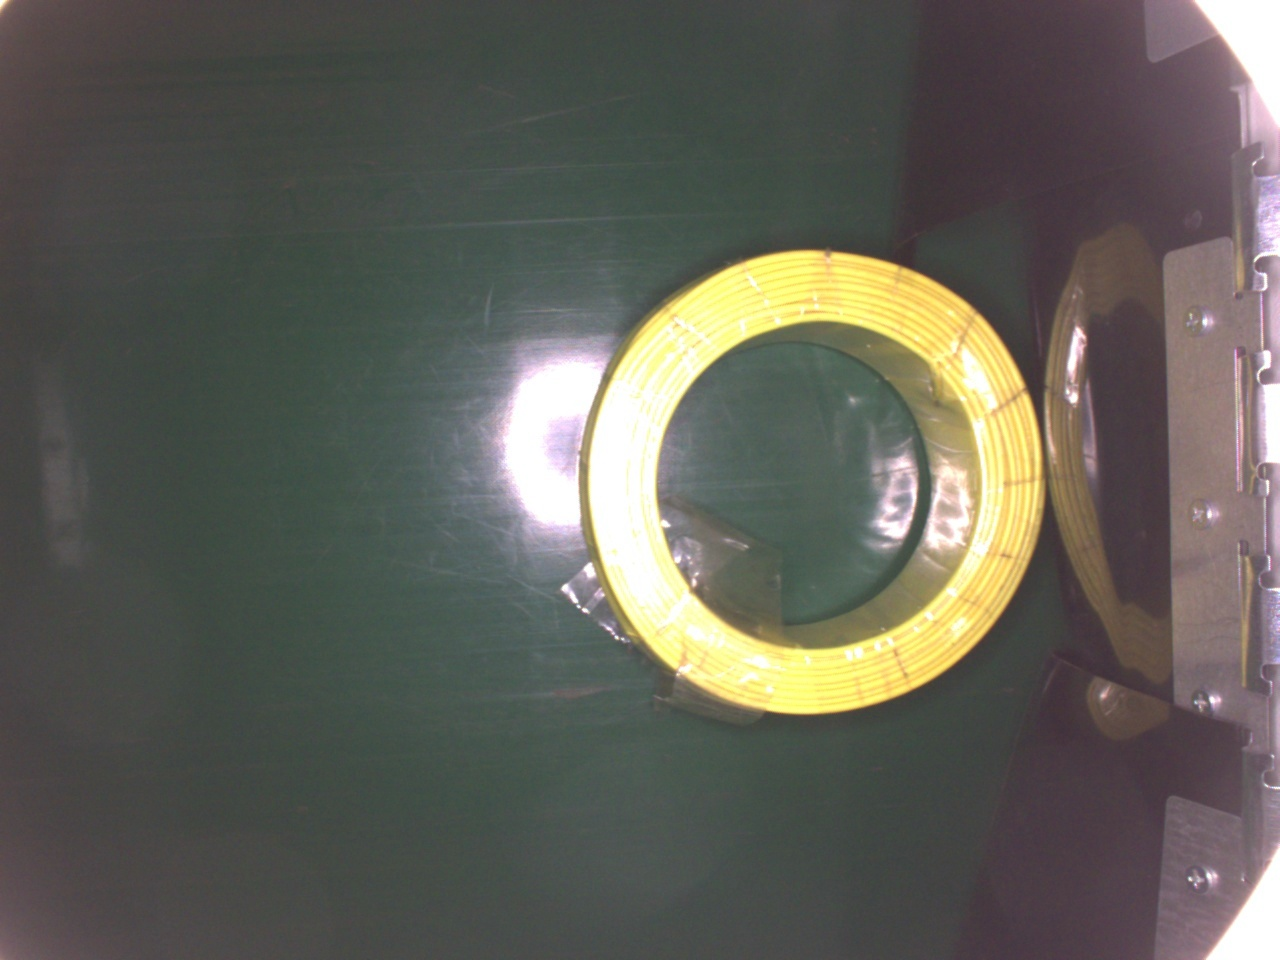yellow: (574, 239, 1058, 733)
